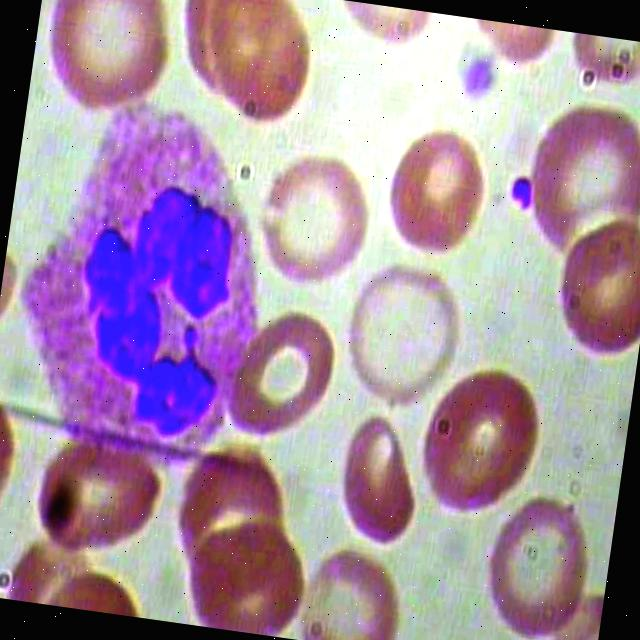Platelets: (452, 44, 506, 108), (506, 170, 544, 216)
RBC: (410, 352, 552, 527), (513, 85, 640, 279), (331, 246, 472, 417), (245, 140, 383, 304), (18, 426, 175, 566), (214, 296, 346, 454), (480, 482, 607, 640), (31, 0, 188, 125), (185, 0, 329, 134), (380, 117, 502, 271), (185, 513, 320, 640), (544, 208, 640, 368), (332, 409, 426, 562), (296, 536, 410, 640)
WBC: (0, 84, 303, 484)
